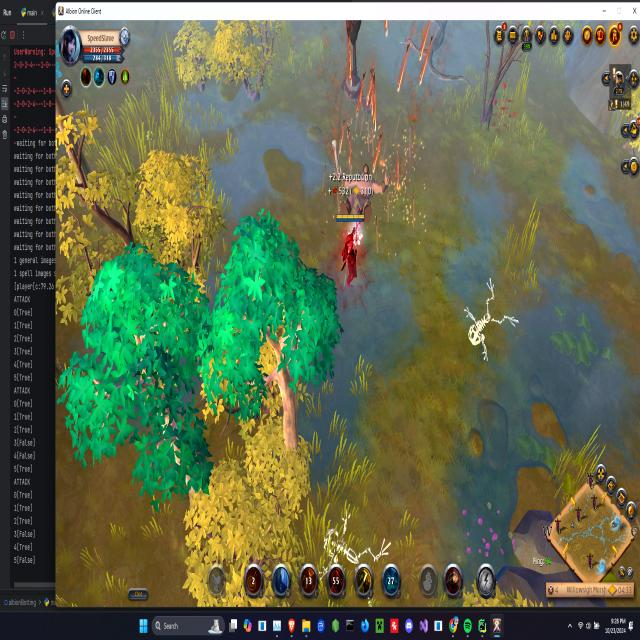red: (334, 208, 366, 286)
stone: (348, 224, 364, 246)
wisp caged: (58, 239, 214, 480), (213, 208, 341, 458)
